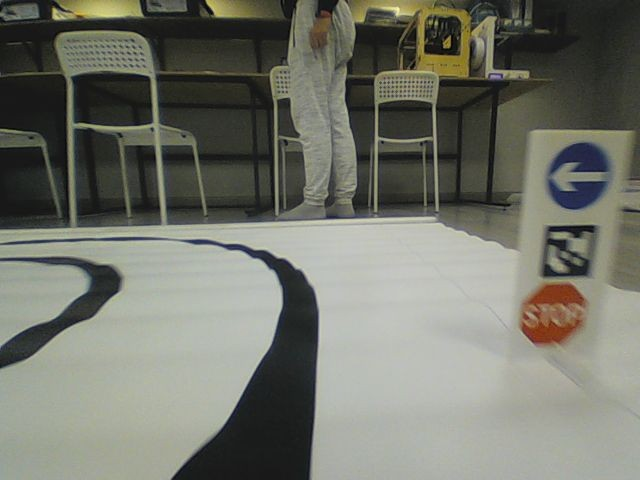Stop: (518, 280, 587, 345)
